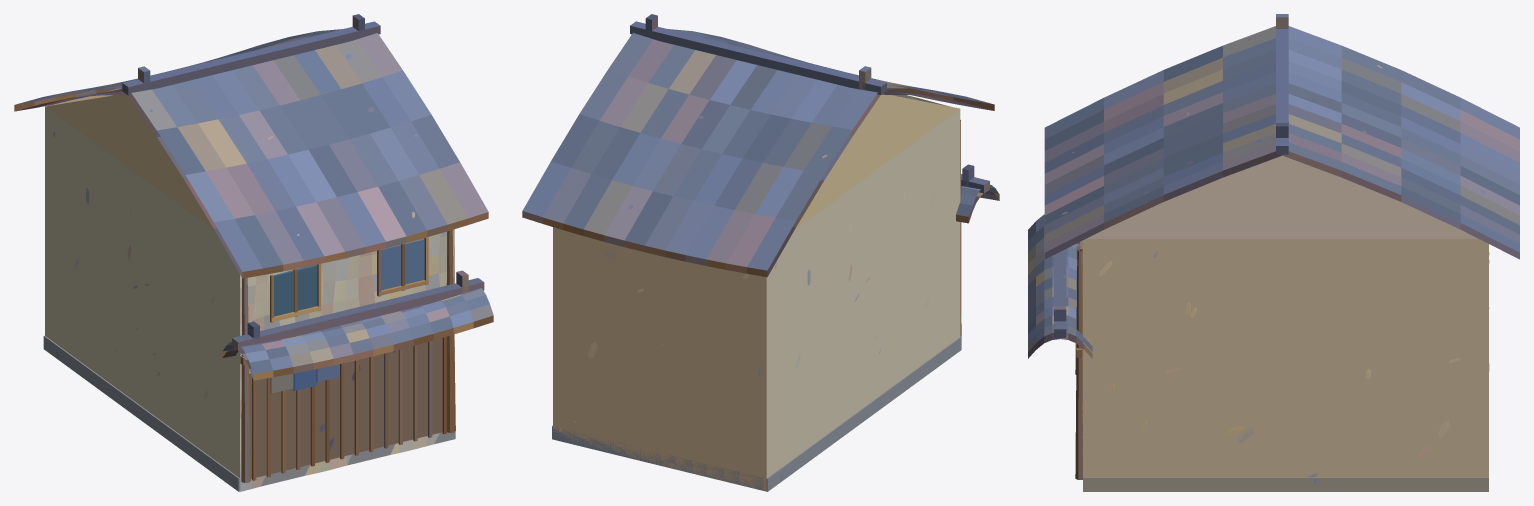
File: HK_Machiya_A_Narrow.lod.glb
3 views of the same model, side by side, from view 1: azimuth 30°, elevation 25°; view 2: azimuth 150°, elevation 25°; view 3: azimuth 270°, elevation 25° (orthographic). The views are drawn at different scales.
Visible parts, largest first — view 1: HK_Machiya_A_Narrow; view 2: HK_Machiya_A_Narrow; view 3: HK_Machiya_A_Narrow.
Boxes of the visible parts, x1,y1,x2,y2 form: HK_Machiya_A_Narrow: (14, 14, 493, 491); HK_Machiya_A_Narrow: (522, 14, 999, 491); HK_Machiya_A_Narrow: (1028, 14, 1519, 491).
Bounding box in the file's own units: 6.35 × 8.47 × 10.3.
